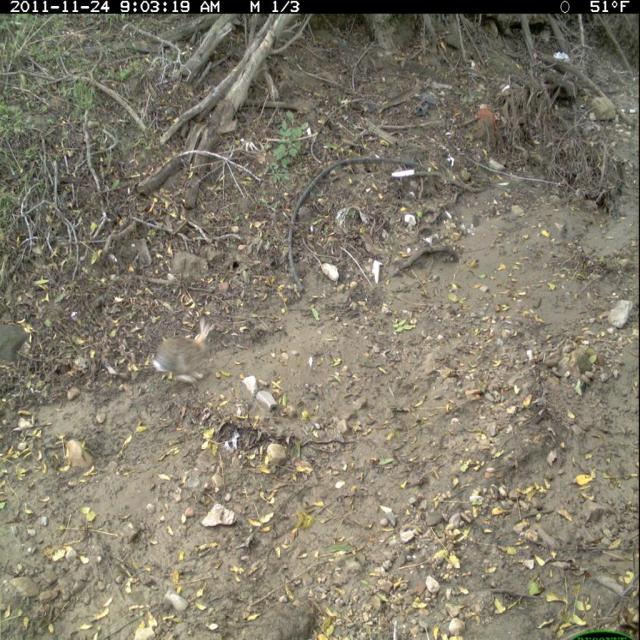rabbit: (149, 313, 223, 396)
